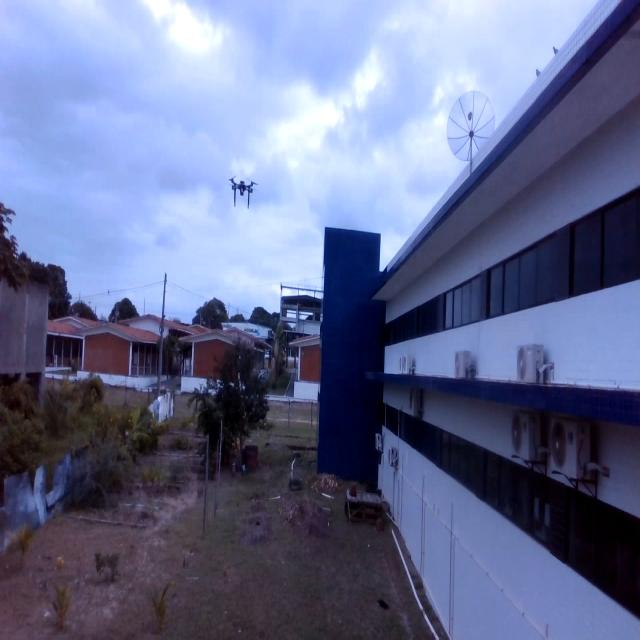-uav-: (219, 157, 266, 227)
